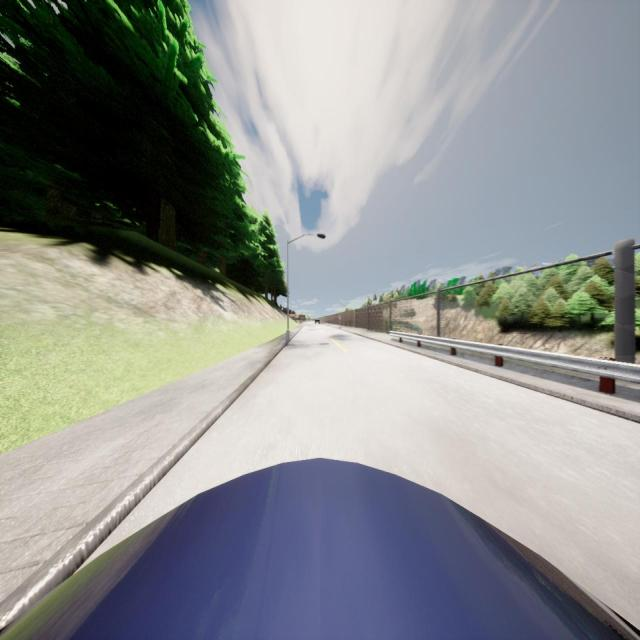Traffic_Signs: (337, 316, 342, 320)
Vehicle: (0, 455, 640, 640), (314, 318, 320, 324)
